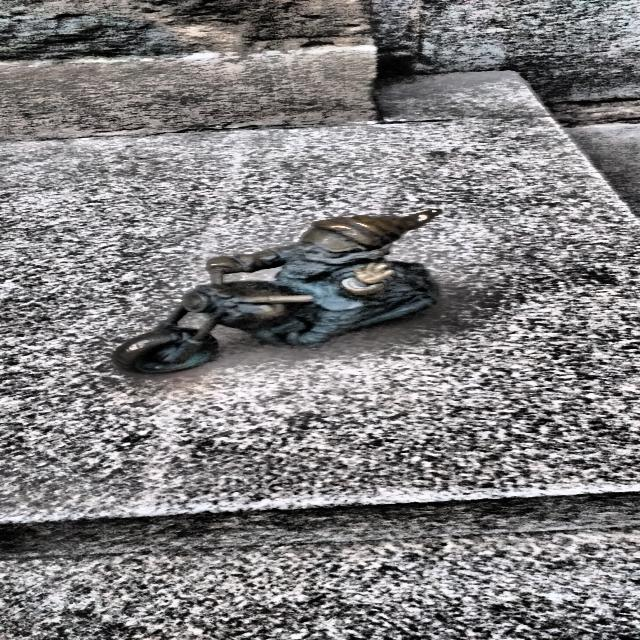Wentyl: (113, 210, 440, 374)
